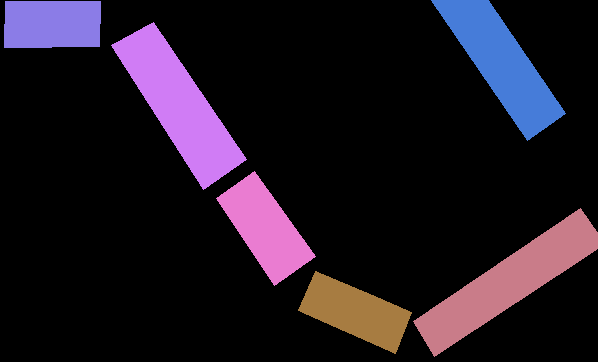parkingspot: (413, 208, 598, 356), (111, 22, 246, 189), (431, 0, 565, 140), (216, 171, 315, 285), (298, 271, 411, 353), (4, 1, 100, 47)
